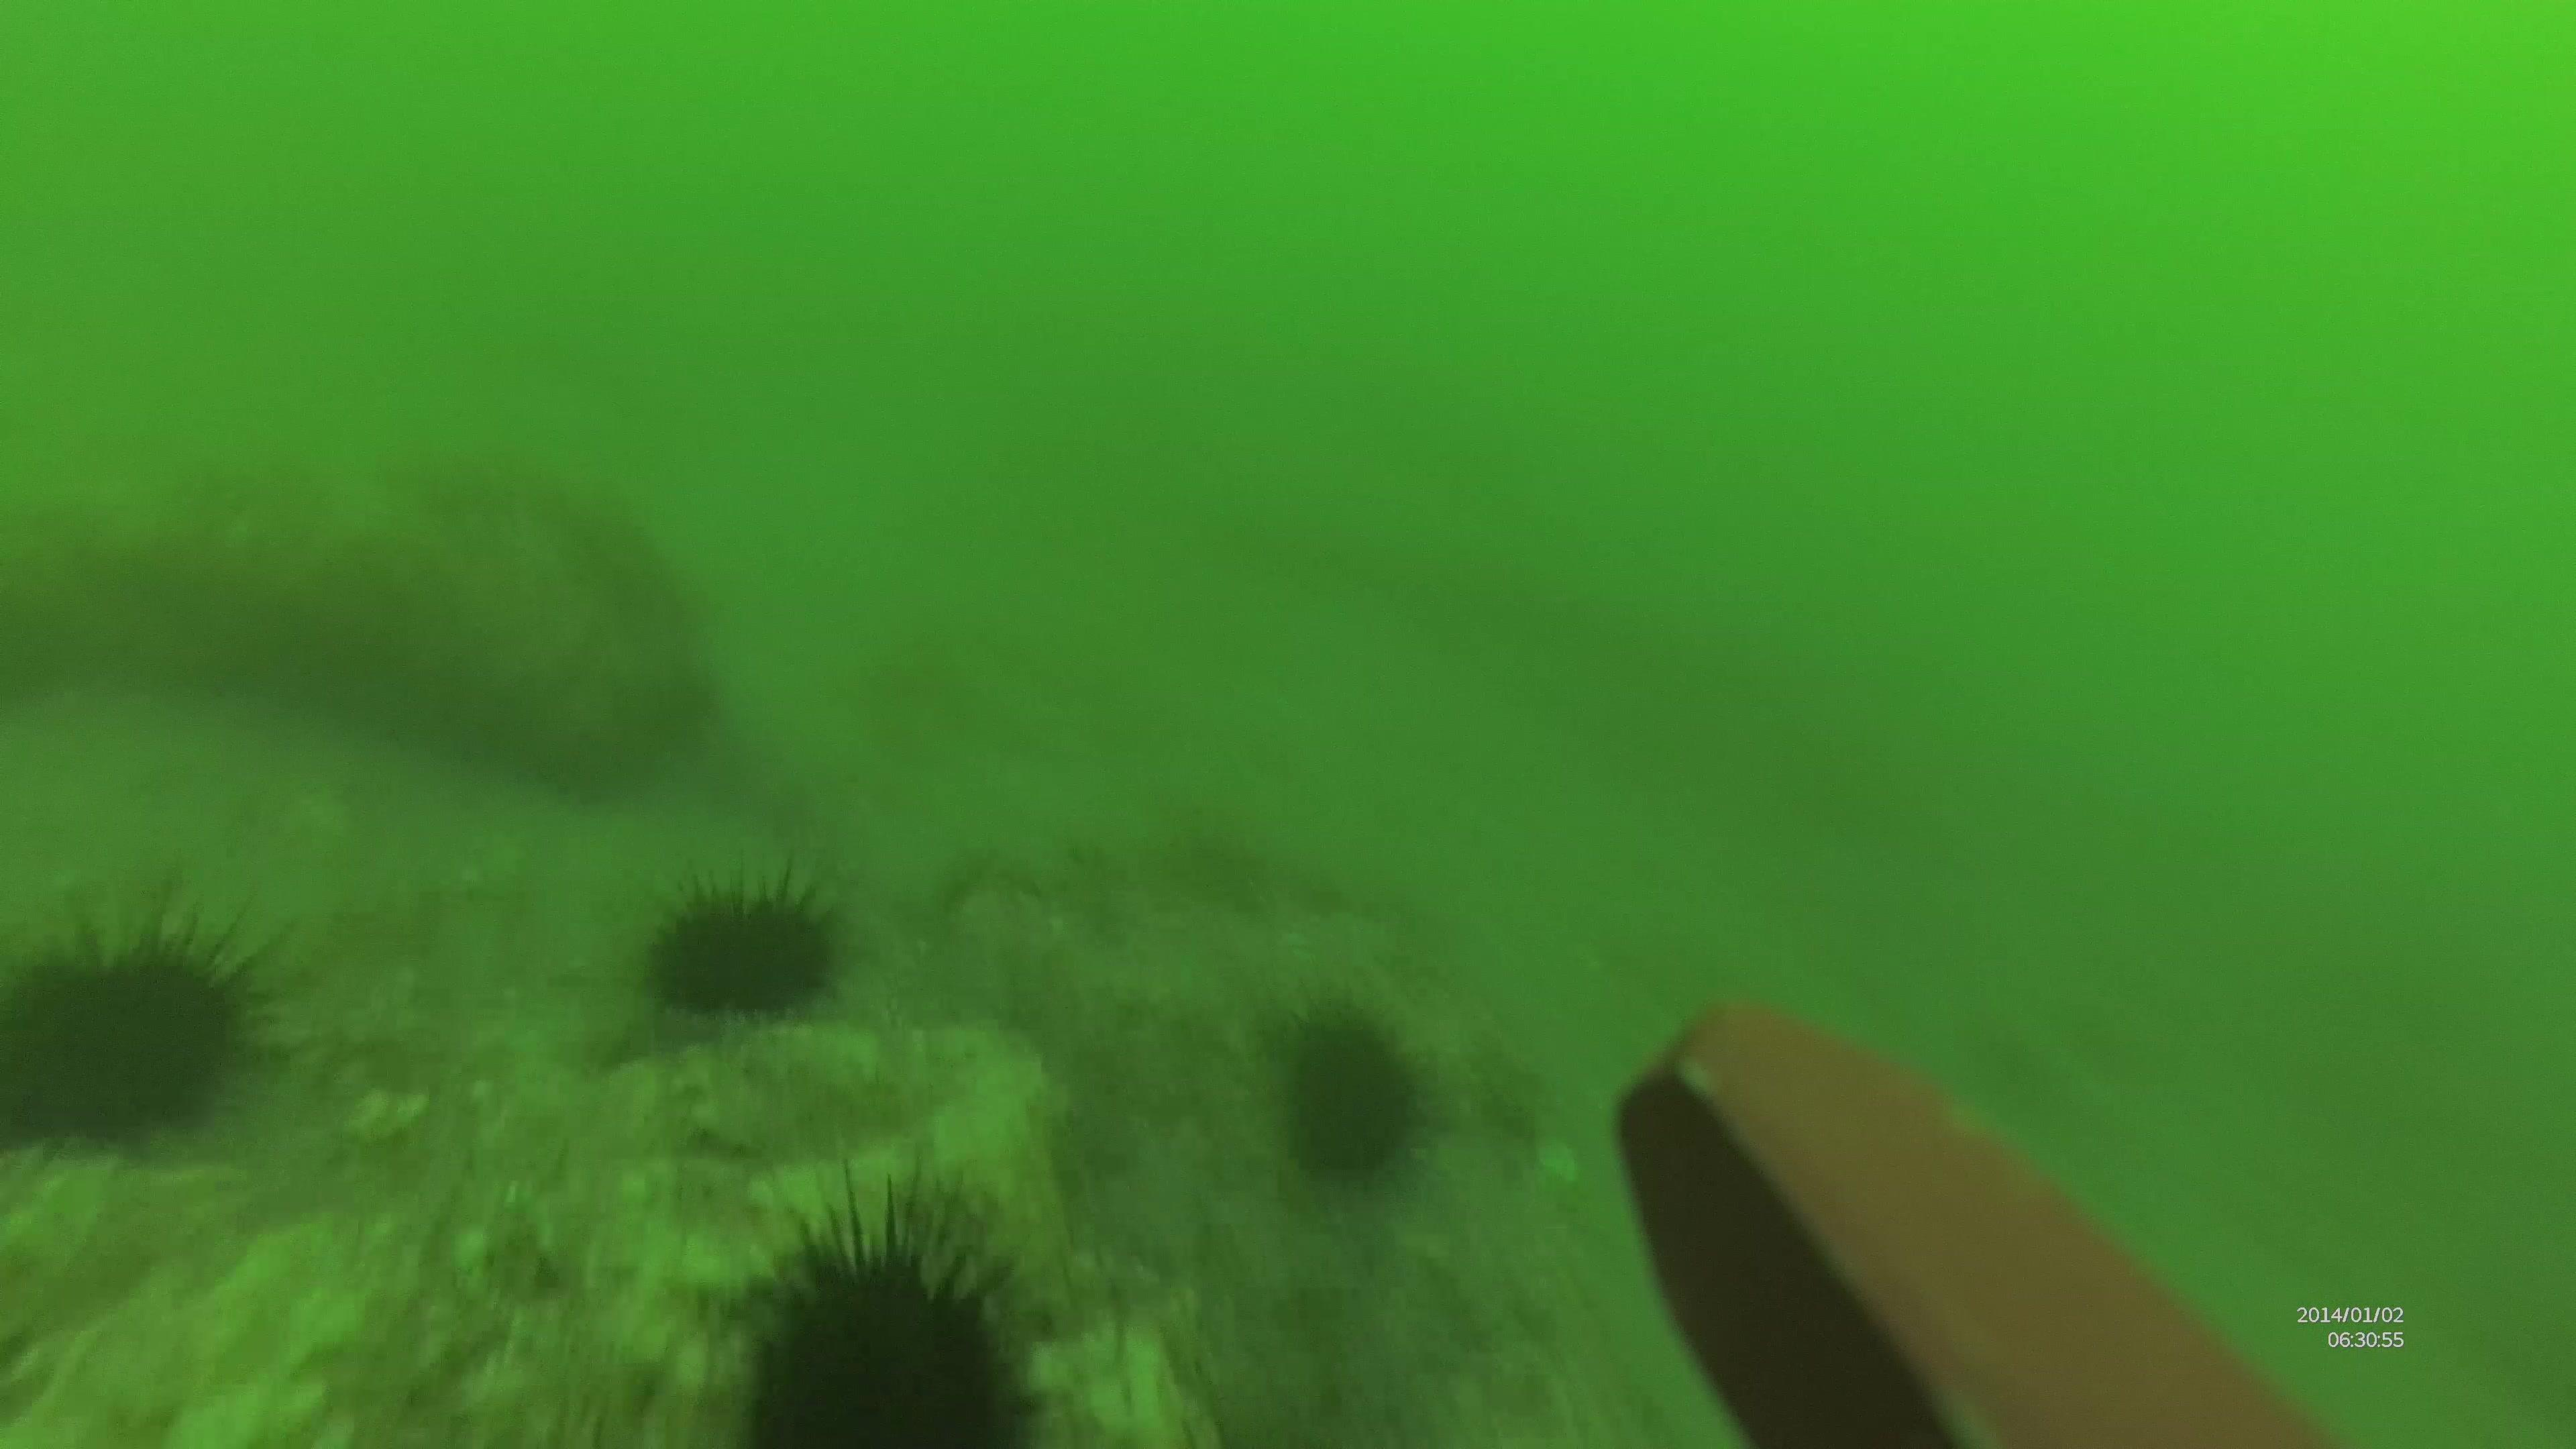echinus: (729, 1171, 1058, 1449), (0, 890, 269, 1148), (1261, 998, 1445, 1189), (635, 872, 863, 1014)
